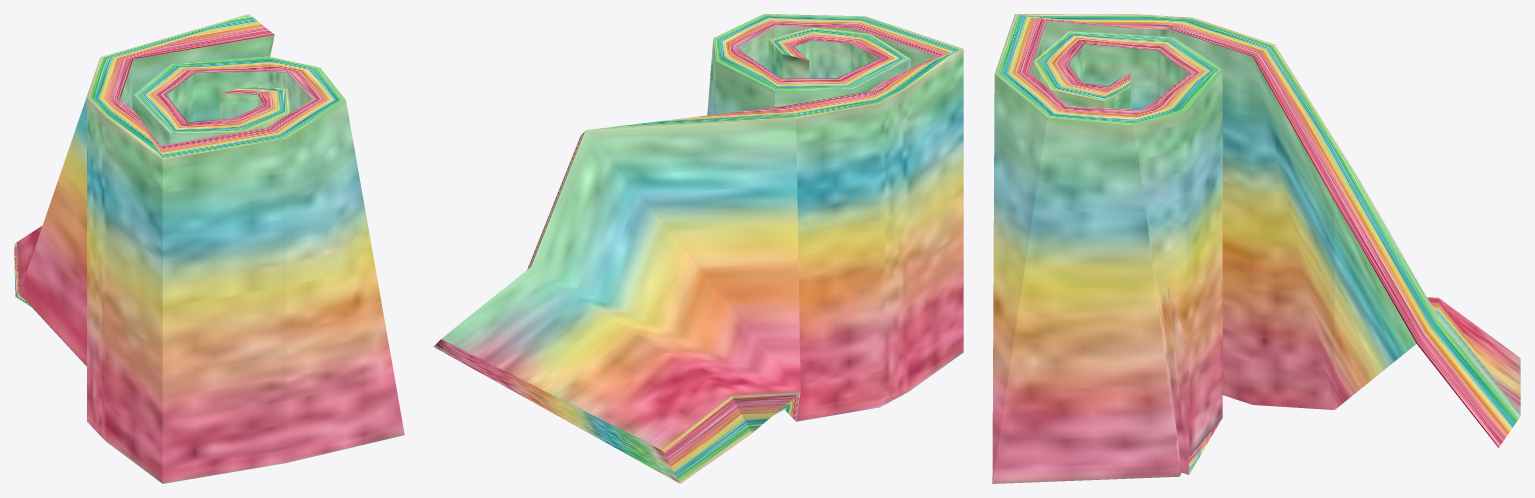
File: sour-belts.glb
3 views of the same model, side by side, from view 1: azimuth 30°, elevation 25°; view 2: azimuth 150°, elevation 25°; view 3: azimuth 270°, elevation 25° (orthographic). The views are drawn at different scales.
Visible parts, largest first — view 1: Cube; view 2: Cube; view 3: Cube.
Boxes of the visible parts, left/top/right/bottom form: Cube: left=14, top=14, right=404, bottom=483; Cube: left=433, top=14, right=963, bottom=483; Cube: left=992, top=14, right=1520, bottom=483.
Size of the model in its own units: 2.21 by 2 by 2.75.
Materials: 1 (1 with a texture image).
